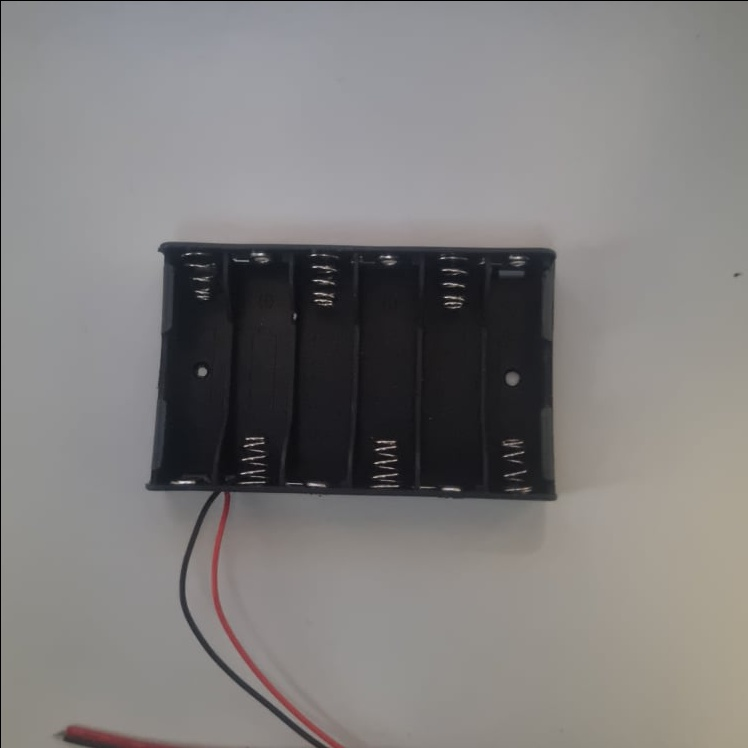BATTERY BOX: (144, 240, 559, 498)
